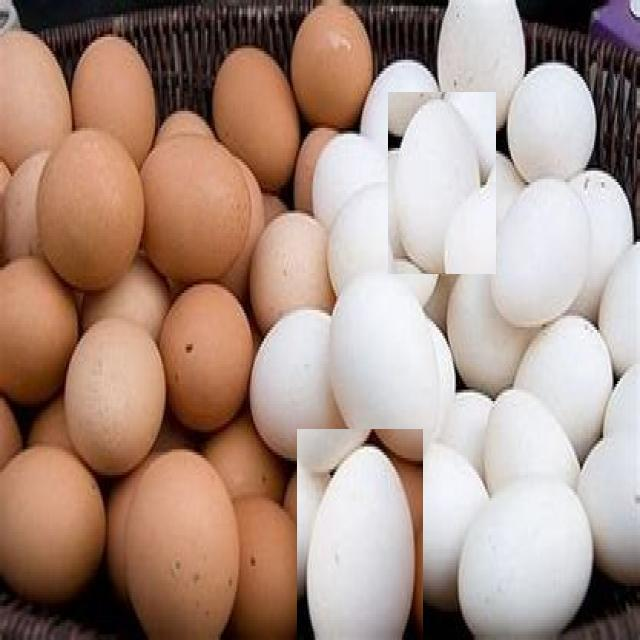Egg: (324, 250, 458, 480), (297, 429, 423, 640), (452, 478, 603, 640), (388, 92, 496, 274), (486, 170, 595, 338)
